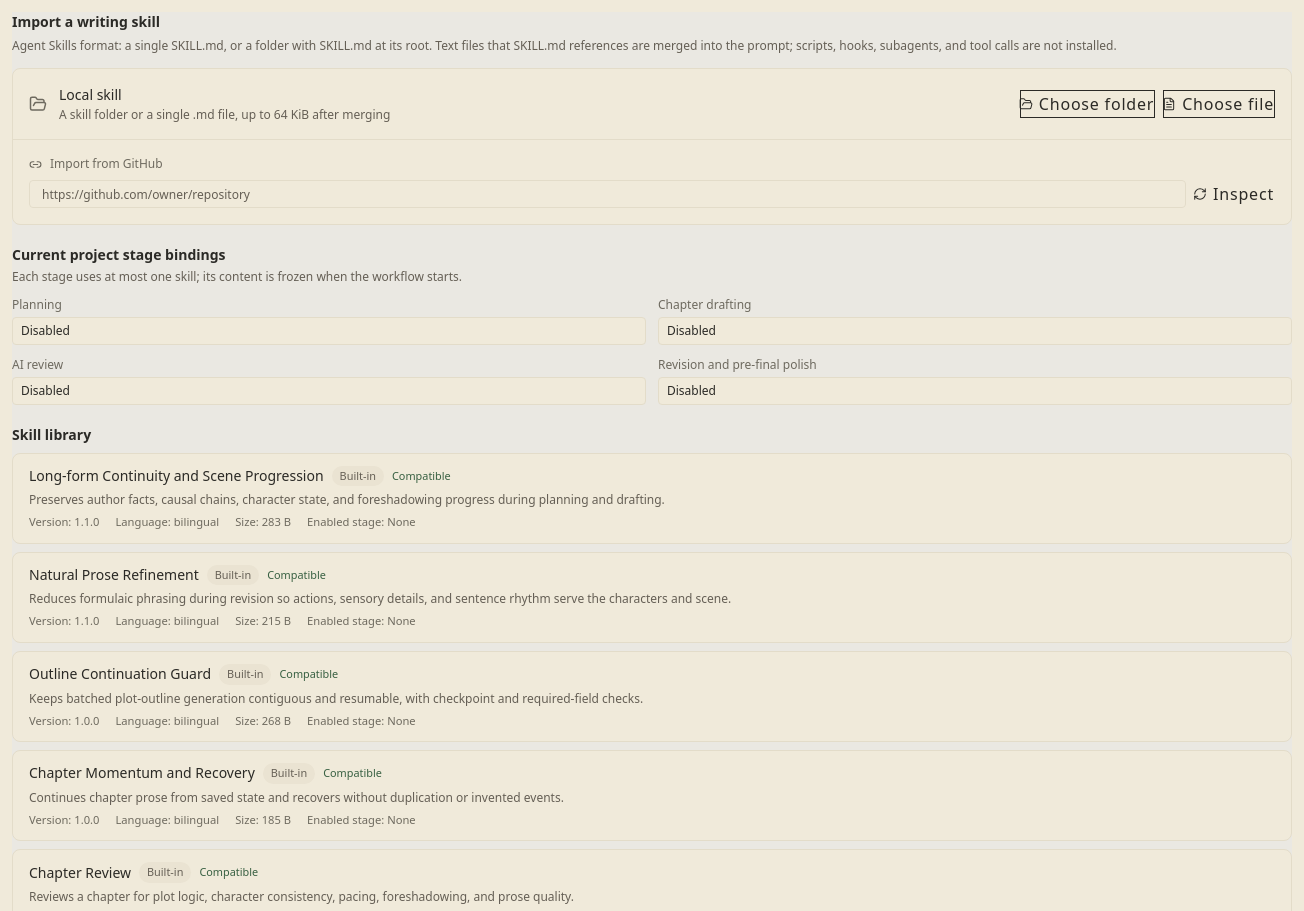
writing skill settings › inspects a local skill folder picked in the main process and lists what it merges and skips
The image size is (1304, 911).
Click the button "Choose folder".
click(1088, 104)  # box [1020, 90, 1155, 118]
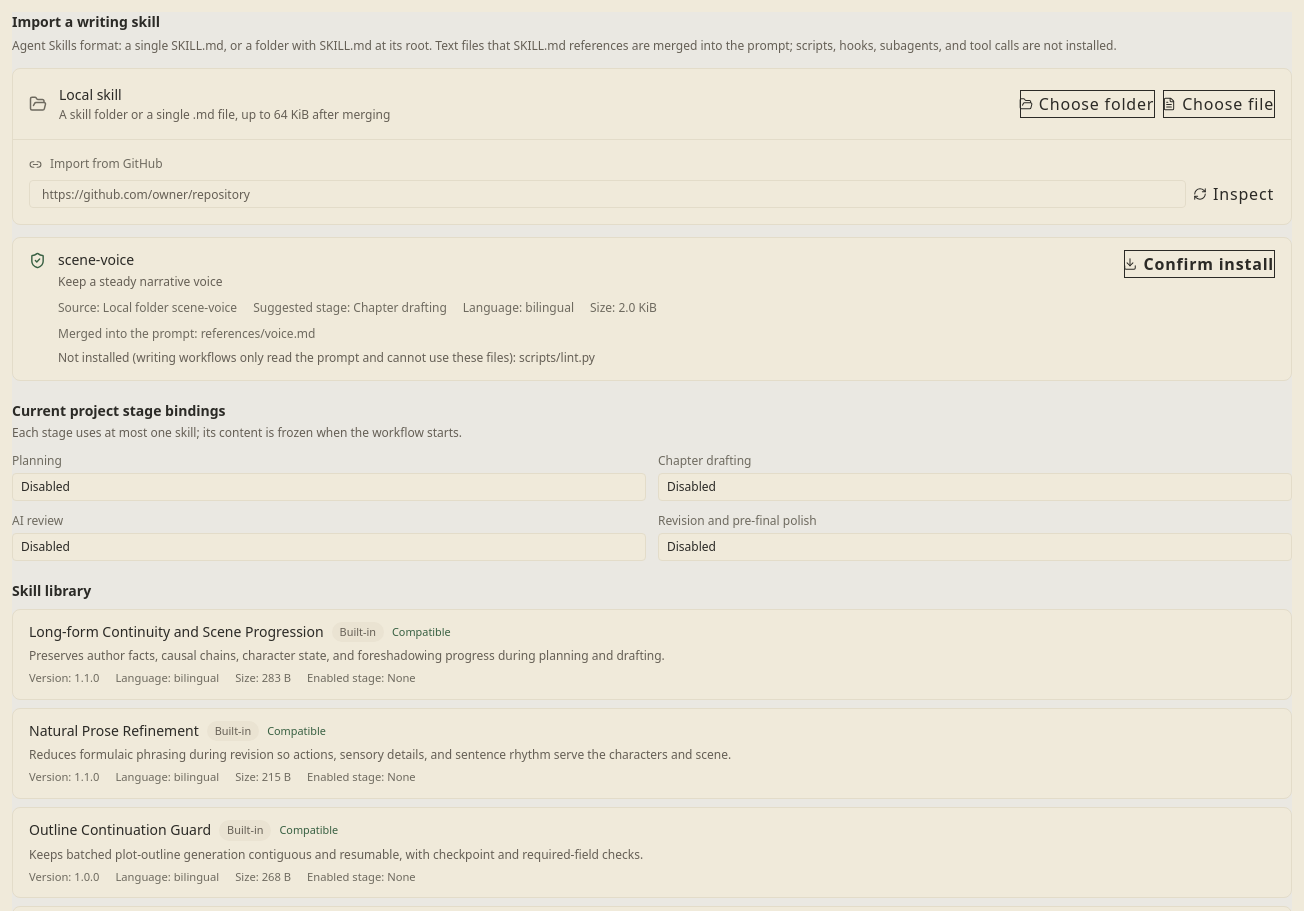
Check: the text "scene-voice" is shown, box [58, 250, 134, 269]
Check: the text "Merged into the prompt: references/voice.md" is shown, box [58, 325, 316, 342]
Check: the text "scripts/lint.py" is shown, box [58, 349, 595, 366]
